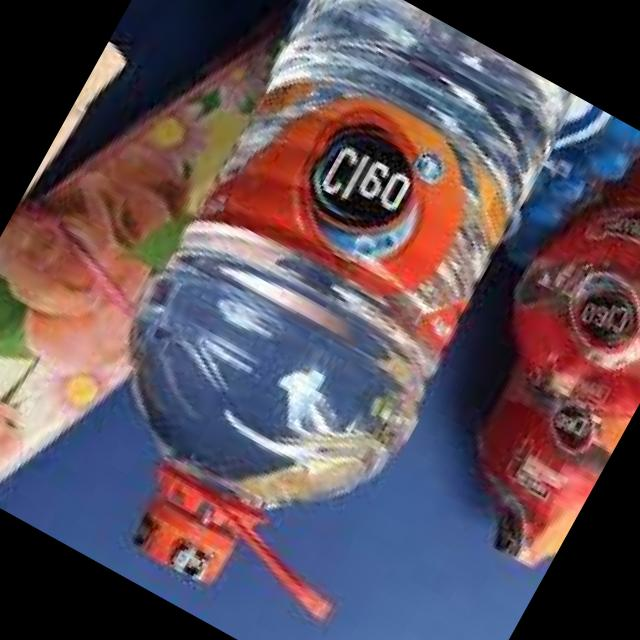Galon: (16, 0, 607, 640)
